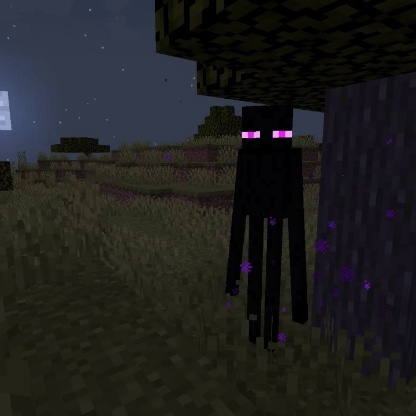enderman: (220, 102, 311, 355)
